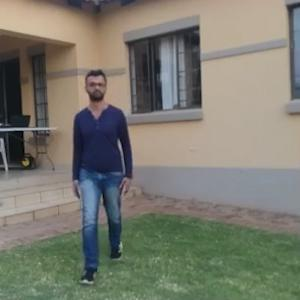follow: (70, 62, 136, 283)
